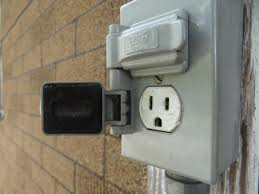outlet: (147, 92, 173, 129)
